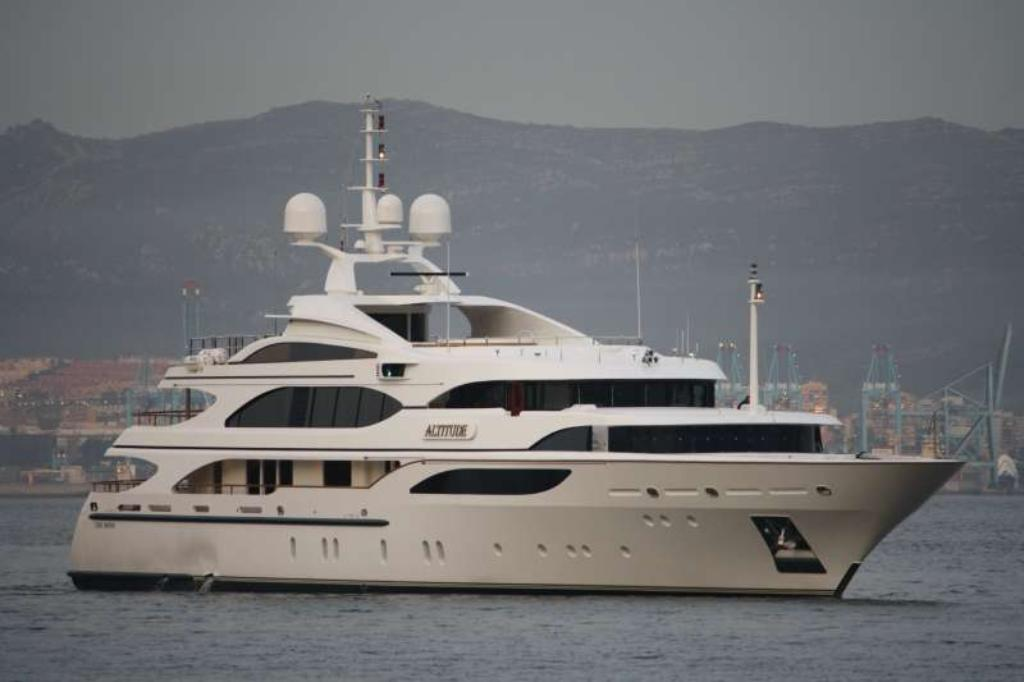PassengerShip: (68, 150, 980, 601)
